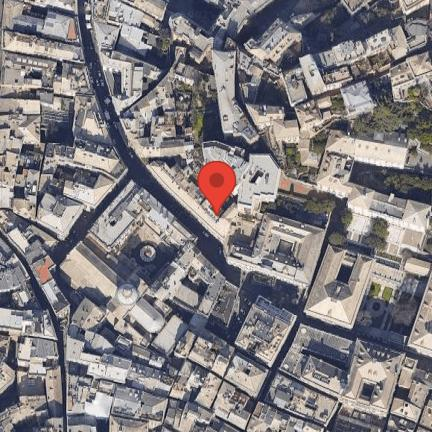area_open: (203, 98, 267, 155), (210, 269, 257, 340), (300, 19, 363, 49), (41, 102, 74, 146), (173, 0, 219, 29), (118, 44, 167, 64), (257, 76, 287, 105), (282, 0, 332, 16), (301, 348, 342, 366), (64, 213, 90, 241), (409, 143, 432, 173), (291, 210, 326, 228), (240, 15, 268, 37), (0, 384, 19, 409), (323, 403, 339, 432), (29, 281, 46, 307), (48, 165, 75, 181), (99, 323, 116, 343), (350, 168, 369, 183), (392, 387, 411, 401), (372, 74, 386, 93), (341, 266, 353, 284), (166, 358, 180, 372), (0, 293, 13, 306), (333, 120, 348, 131), (98, 420, 109, 432), (15, 218, 28, 227)
built: (60, 178, 272, 399), (145, 138, 327, 287), (64, 300, 254, 432), (83, 0, 218, 160), (0, 0, 93, 220), (249, 325, 432, 432), (315, 127, 430, 259), (303, 247, 432, 357), (282, 14, 432, 103), (38, 96, 127, 239), (0, 237, 63, 432), (243, 81, 376, 168), (221, 10, 316, 105), (0, 210, 73, 323), (212, 51, 261, 141), (235, 295, 296, 366), (389, 47, 432, 110), (210, 0, 268, 44), (170, 14, 213, 61), (401, 0, 432, 15), (340, 0, 370, 15)
vegetation_low: (352, 277, 424, 349), (349, 104, 432, 157), (266, 132, 317, 179), (248, 272, 305, 314), (367, 167, 429, 203), (177, 88, 206, 142), (360, 0, 402, 28), (328, 202, 347, 245), (256, 196, 304, 211), (303, 194, 336, 215), (277, 42, 303, 68), (317, 3, 341, 22), (331, 94, 347, 114), (311, 127, 326, 148)
